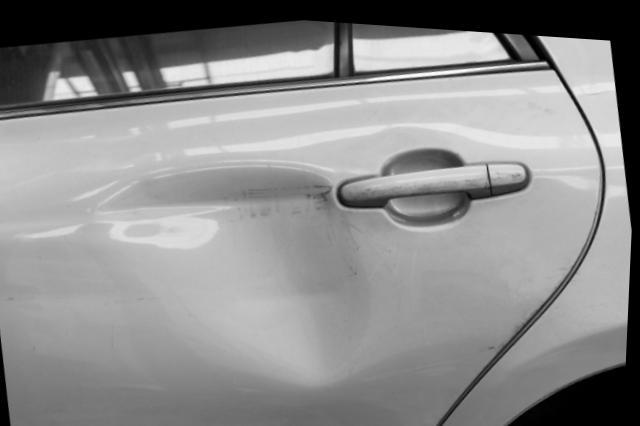dent: (98, 158, 374, 381)
